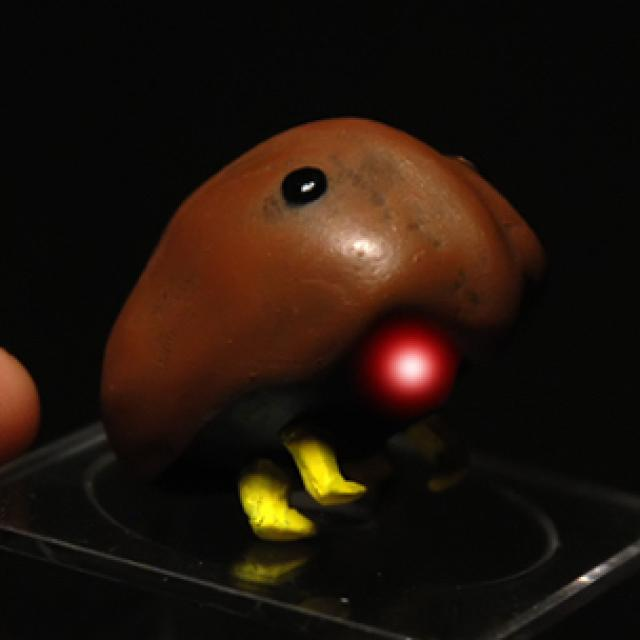Kabuto: (109, 109, 540, 554)
